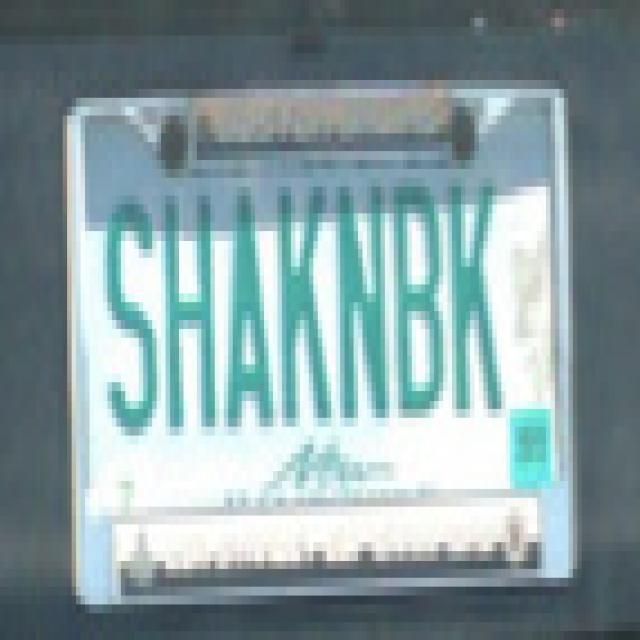A: (217, 175, 281, 445)
B: (390, 171, 444, 435)
H: (158, 174, 220, 434)
K: (445, 172, 504, 444), (276, 179, 334, 446)
N: (332, 177, 393, 430)
S: (102, 176, 162, 450)
